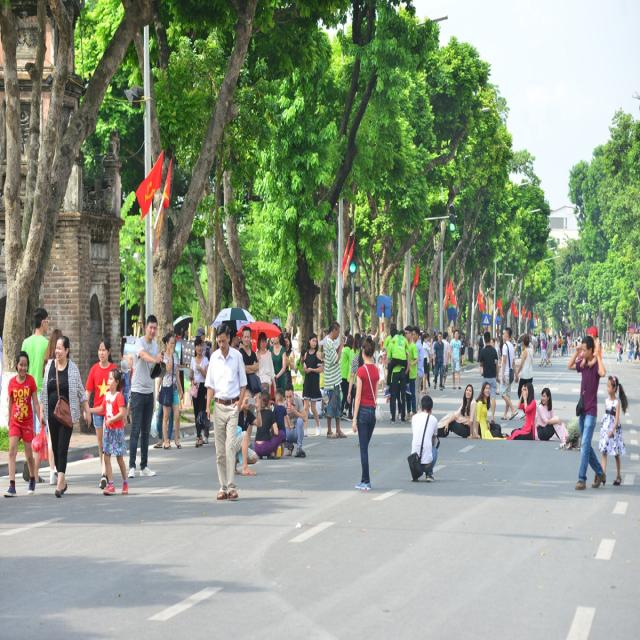body: (39, 334, 92, 500), (204, 322, 248, 500), (2, 350, 47, 498), (127, 314, 165, 478), (82, 367, 129, 495), (567, 336, 606, 490), (82, 336, 121, 489), (20, 307, 50, 483), (351, 336, 384, 490), (319, 328, 471, 361), (596, 374, 629, 486), (155, 333, 185, 450), (323, 320, 348, 439), (407, 394, 440, 483), (221, 327, 245, 443), (234, 388, 264, 478), (188, 336, 212, 448), (192, 326, 214, 444), (384, 326, 410, 425), (301, 332, 323, 438), (437, 383, 477, 441), (276, 382, 306, 458), (217, 321, 292, 351), (474, 380, 510, 441), (253, 390, 284, 460), (382, 329, 413, 399), (534, 387, 571, 443), (237, 325, 260, 414), (498, 326, 519, 422), (347, 336, 376, 405), (478, 331, 499, 426), (506, 381, 536, 440), (152, 376, 175, 450), (531, 334, 608, 356), (514, 332, 534, 413), (254, 330, 277, 400), (268, 325, 288, 404), (403, 324, 419, 422), (272, 387, 293, 460), (346, 332, 362, 420), (339, 334, 355, 421), (478, 330, 524, 360), (381, 322, 397, 406), (412, 326, 426, 414), (42, 328, 63, 379), (420, 332, 434, 395), (294, 347, 308, 409), (119, 358, 132, 424), (449, 328, 462, 390), (432, 331, 445, 392), (282, 331, 296, 384), (305, 388, 328, 417), (174, 325, 189, 367), (586, 326, 602, 364), (440, 330, 450, 390), (424, 331, 432, 388), (376, 354, 386, 394), (538, 331, 548, 367), (177, 370, 186, 406), (0, 328, 4, 402), (544, 334, 552, 368), (625, 336, 634, 362), (459, 335, 466, 367), (490, 337, 499, 361), (632, 338, 640, 363), (319, 360, 325, 392), (616, 339, 622, 366), (204, 338, 213, 356), (617, 341, 624, 363), (536, 333, 542, 355), (552, 336, 558, 358), (295, 322, 300, 348), (475, 330, 482, 348), (563, 336, 569, 357)
